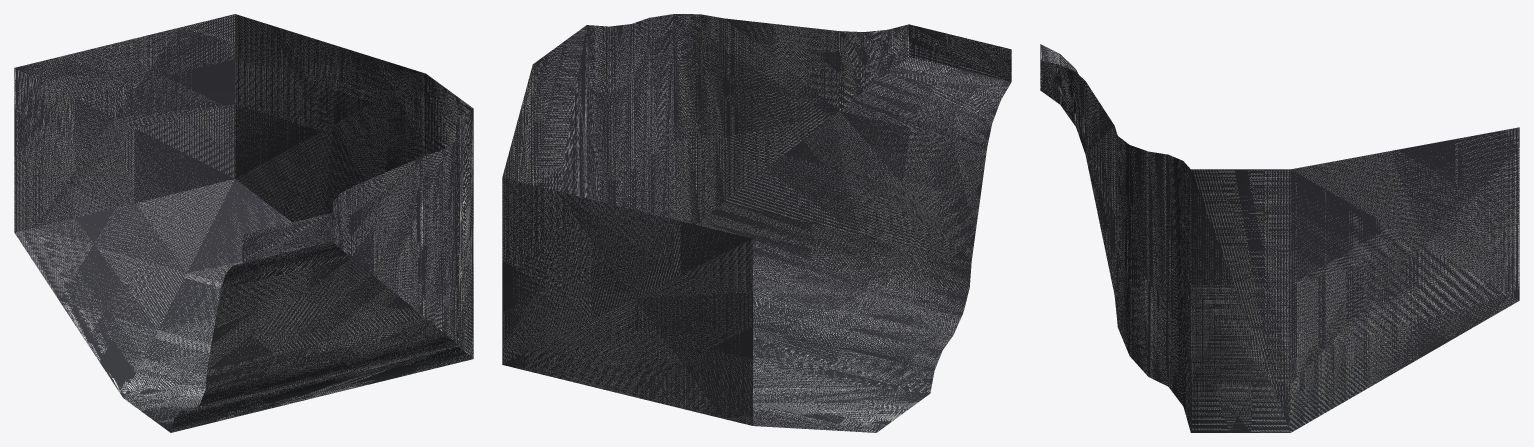
The model's file is original-28.obj.
3 renders of one model, left to right at view 1: azimuth 30°, elevation 25°; view 2: azimuth 150°, elevation 25°; view 3: azimuth 270°, elevation 25°, orthographic. The views are drawn at different scales.
Visible parts, largest first — view 1: DF_12_BR1/DF_12_BR/mesh21/mesh21-geometry#mesh21-geometry; view 2: DF_12_BR1/DF_12_BR/mesh21/mesh21-geometry#mesh21-geometry; view 3: DF_12_BR1/DF_12_BR/mesh21/mesh21-geometry#mesh21-geometry.
Part boxes in pixels (x1=…): DF_12_BR1/DF_12_BR/mesh21/mesh21-geometry#mesh21-geometry: x1=14, y1=14, x2=473, y2=432; DF_12_BR1/DF_12_BR/mesh21/mesh21-geometry#mesh21-geometry: x1=502, y1=14, x2=1011, y2=432; DF_12_BR1/DF_12_BR/mesh21/mesh21-geometry#mesh21-geometry: x1=1040, y1=44, x2=1519, y2=432.
Bounding box in the file's own units: 0.0218 × 0.0172 × 0.0284.
